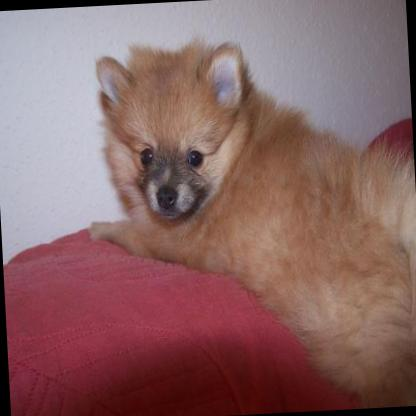Pomeranian: (75, 24, 416, 416)
